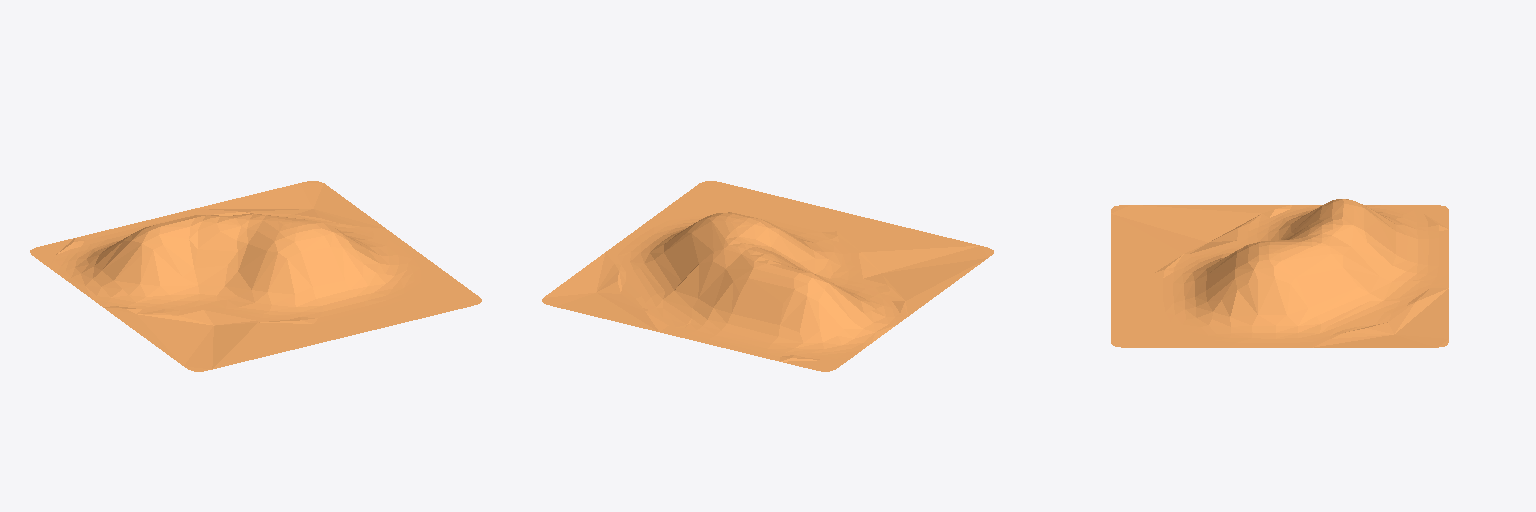
The model's file is Ground13.obj.
The picture shows the model from 3 angles: view 1: azimuth 30°, elevation 25°; view 2: azimuth 150°, elevation 25°; view 3: azimuth 270°, elevation 25°; orthographic projection.
Parts seen in each view (by area): view 1: Plane; view 2: Plane; view 3: Plane.
Boxes of the visible parts, x1=… form: Plane: x1=30, y1=181, x2=481, y2=371; Plane: x1=542, y1=181, x2=993, y2=371; Plane: x1=1111, y1=199, x2=1448, y2=347.
Bounding box in the file's own units: 400 × 63.95 × 400.